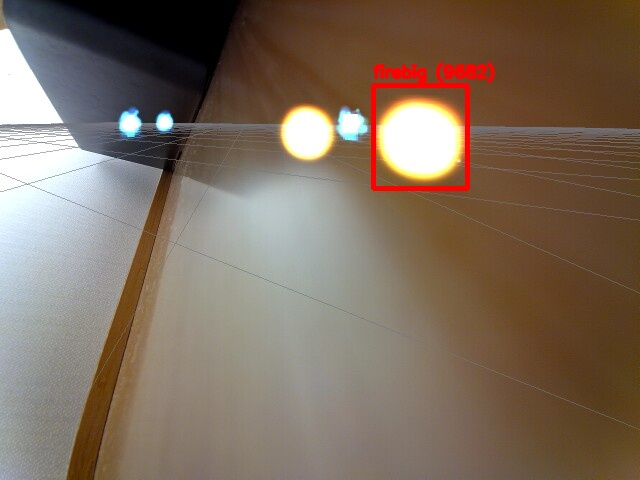firebig: (373, 85, 467, 188)
